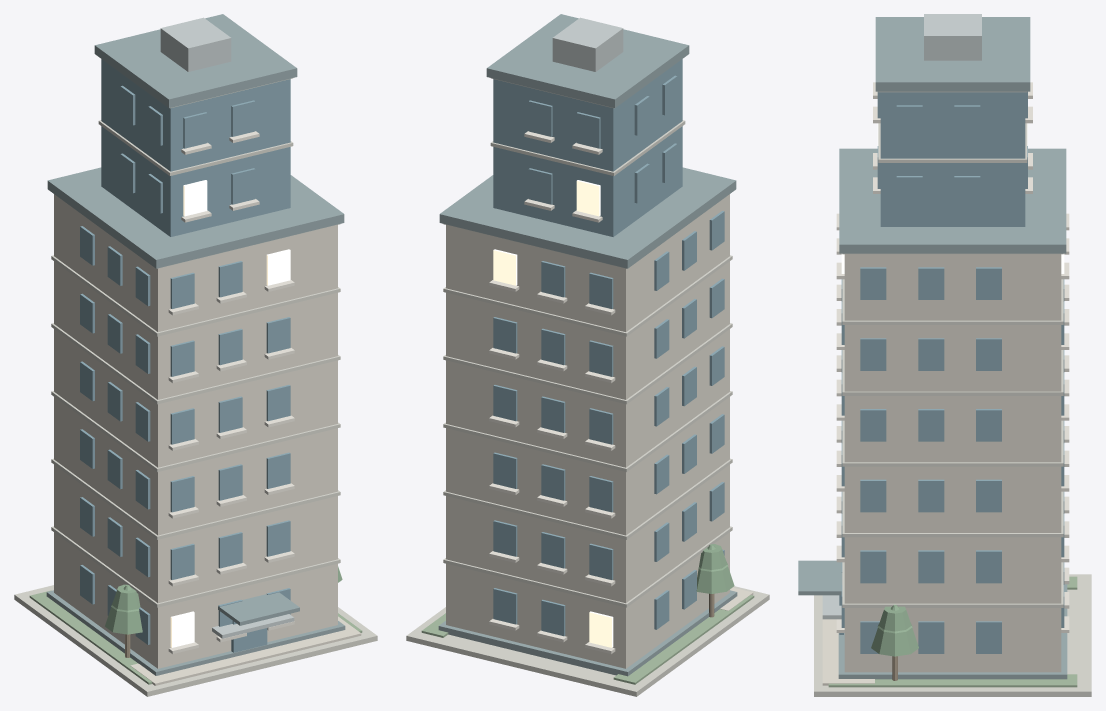
The model's file is remaster_office_6.glb.
3 renders of one model, left to right at view 1: azimuth 30°, elevation 25°; view 2: azimuth 150°, elevation 25°; view 3: azimuth 270°, elevation 25°, orthographic. The views are drawn at different scales.
Visible parts, largest first — view 1: remaster_office_6 cream, remaster_office_6 glass, remaster_office_6 roof, remaster_office_6 stone, remaster_office_6 white, remaster_office_6 metal, remaster_office_6 warm, remaster_office_6 green, remaster_office_6 leaf; view 2: remaster_office_6 cream, remaster_office_6 glass, remaster_office_6 roof, remaster_office_6 stone, remaster_office_6 white, remaster_office_6 metal, remaster_office_6 warm, remaster_office_6 green, remaster_office_6 leaf; view 3: remaster_office_6 cream, remaster_office_6 glass, remaster_office_6 roof, remaster_office_6 stone, remaster_office_6 white, remaster_office_6 metal, remaster_office_6 green, remaster_office_6 leaf.
Part boxes in pixels (x1,y1,x2,y2): remaster_office_6 cream: (54, 194, 361, 685); remaster_office_6 glass: (80, 59, 290, 652); remaster_office_6 roof: (46, 14, 345, 675); remaster_office_6 stone: (14, 78, 377, 696); remaster_office_6 white: (168, 131, 294, 653); remaster_office_6 metal: (160, 17, 294, 638); remaster_office_6 warm: (170, 180, 290, 647); remaster_office_6 green: (29, 590, 362, 684); remaster_office_6 leaf: (105, 566, 342, 634); remaster_office_6 cream: (446, 194, 753, 668); remaster_office_6 glass: (493, 59, 724, 636); remaster_office_6 roof: (438, 14, 737, 676); remaster_office_6 stone: (406, 78, 769, 696); remaster_office_6 white: (489, 131, 615, 653); remaster_office_6 metal: (552, 17, 623, 71); remaster_office_6 warm: (493, 180, 613, 647); remaster_office_6 green: (421, 595, 754, 684); remaster_office_6 leaf: (696, 544, 734, 593); remaster_office_6 cream: (822, 254, 1061, 685); remaster_office_6 glass: (839, 91, 1064, 653); remaster_office_6 roof: (798, 17, 1067, 679); remaster_office_6 stone: (814, 91, 1091, 696); remaster_office_6 white: (836, 82, 1069, 632); remaster_office_6 metal: (822, 14, 981, 619); remaster_office_6 green: (828, 576, 1077, 687); remaster_office_6 leaf: (871, 604, 918, 656).
Size of the model in its own units: 9.64 by 23.4 by 10.15.
